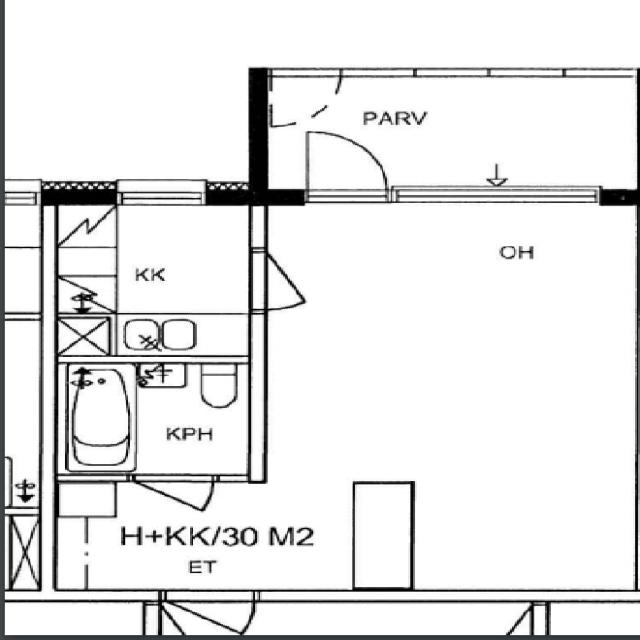door: (249, 251, 346, 310), (308, 133, 386, 205), (131, 474, 211, 540)
